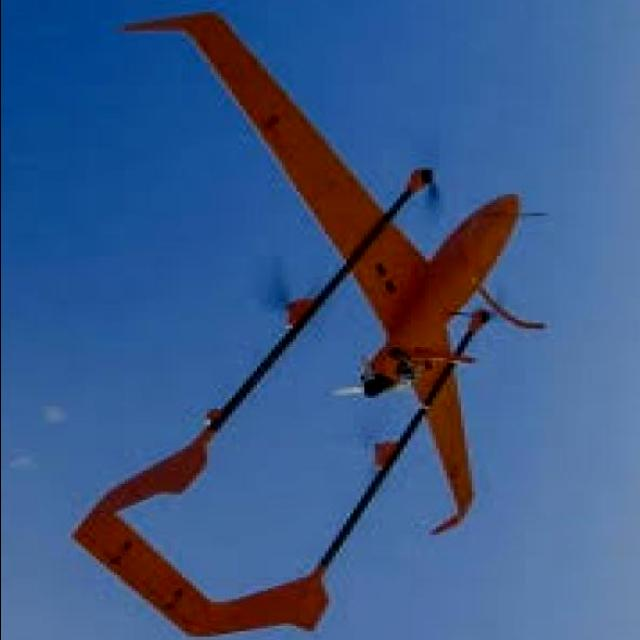plane: (66, 11, 548, 640)
